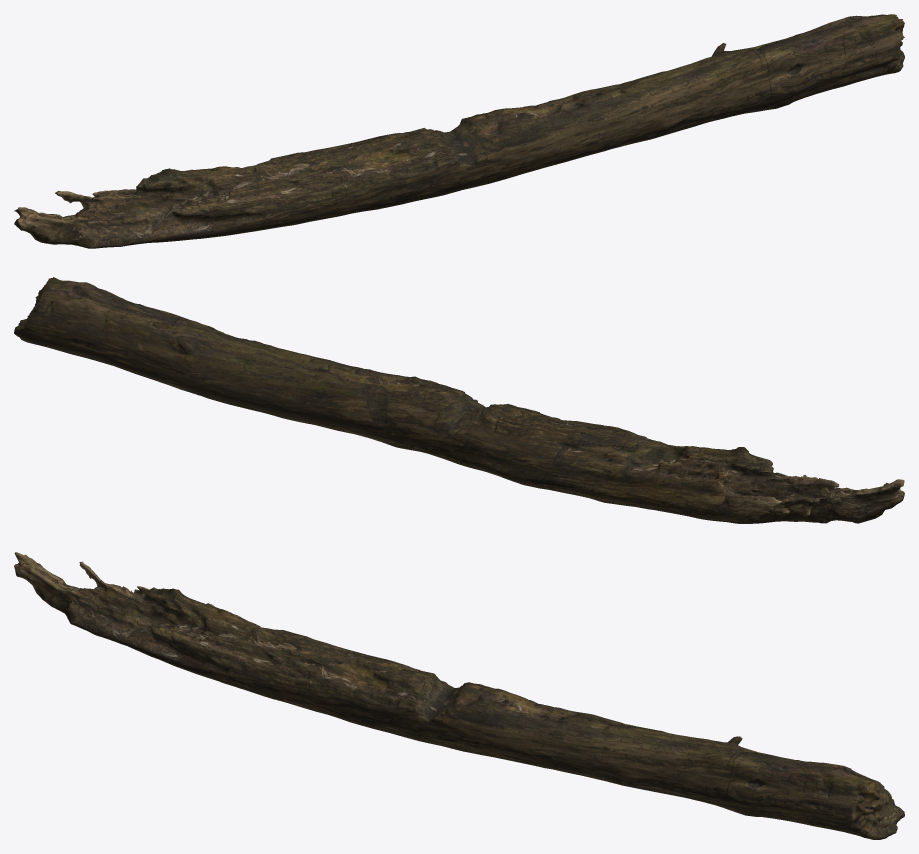
File: dead_tree_trunk.glb
3 renders of one model, top to bottom at view 1: azimuth 30°, elevation 25°; view 2: azimuth 150°, elevation 25°; view 3: azimuth 330°, elevation 25°, orthographic.
Visible parts, largest first — view 1: dead_tree_trunk; view 2: dead_tree_trunk; view 3: dead_tree_trunk.
Part boxes in pixels (x1=…): dead_tree_trunk: x1=14, y1=14, x2=904, y2=248; dead_tree_trunk: x1=14, y1=277, x2=904, y2=523; dead_tree_trunk: x1=14, y1=552, x2=904, y2=839.
Bounding box in the file's own units: 3.05 × 0.2896 × 0.2772.
Materials: 1 (1 with a texture image).
